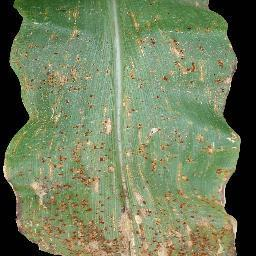Corn_Common_Rust: (121, 0, 248, 254), (0, 0, 121, 256)
